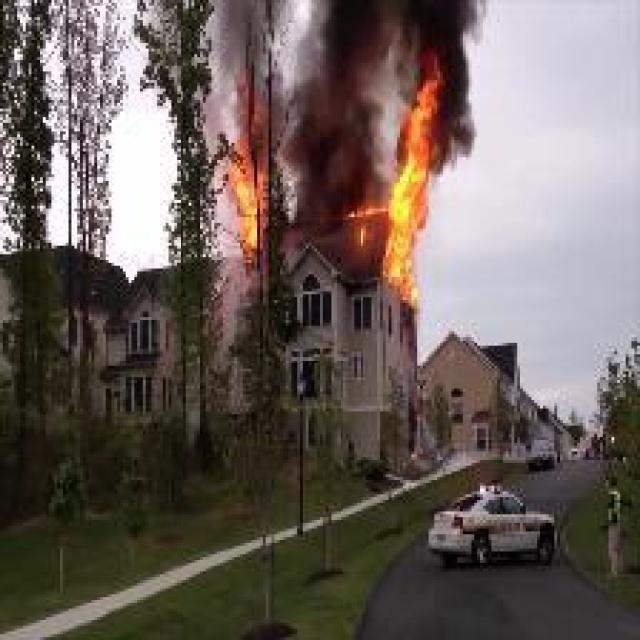fire: (376, 78, 447, 300), (209, 73, 289, 259)
smoke: (290, 0, 378, 231), (207, 0, 290, 120), (383, 0, 477, 83)
